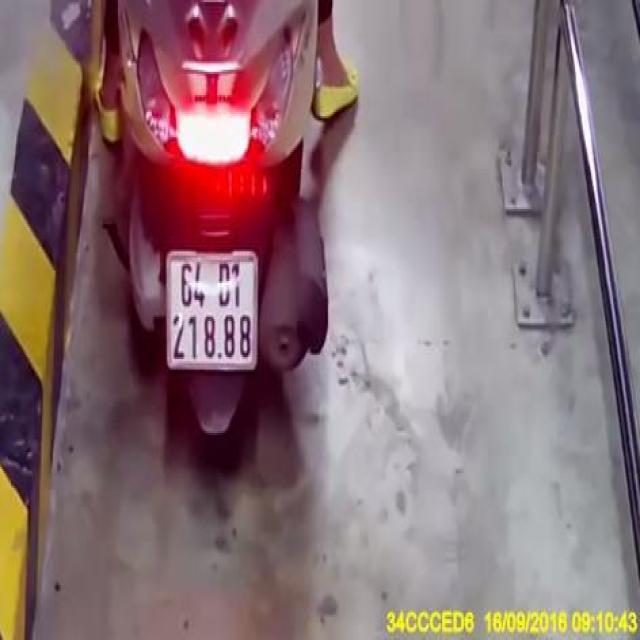bien_so: (163, 245, 259, 370)
